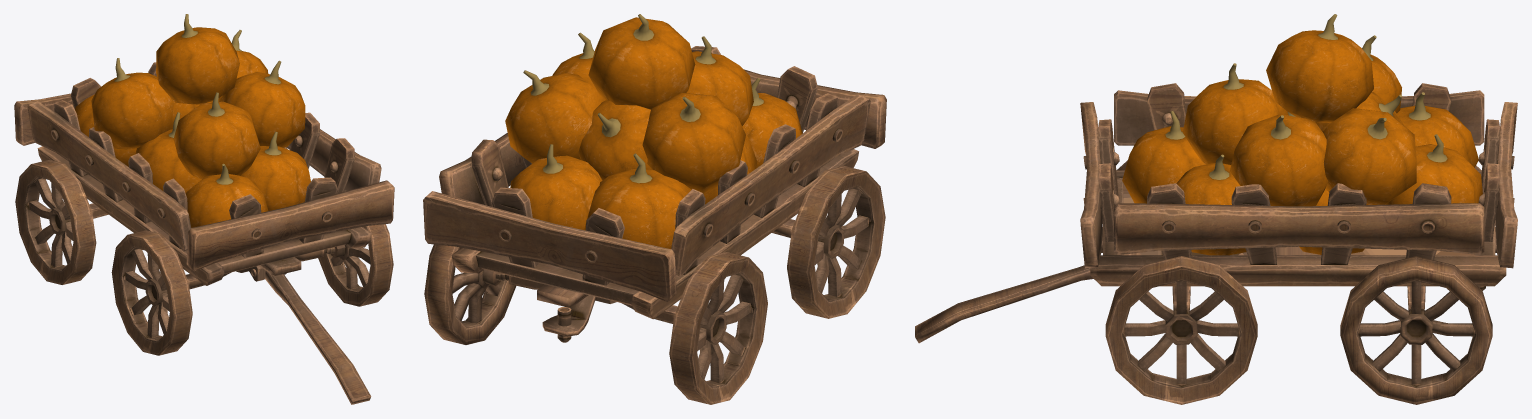
Rendered from PumpkineCartTex_001.fbx.
The picture shows the model from 3 angles, left to right: view 1: azimuth 30°, elevation 25°; view 2: azimuth 150°, elevation 25°; view 3: azimuth 270°, elevation 25°; orthographic projection. The views are drawn at different scales.
Visible parts, largest first — view 1: cart, Pumpkin, wheel; view 2: cart, Pumpkin, wheel; view 3: cart, Pumpkin, wheel.
Boxes of the visible parts, x1,y1,x2,y2 form: cart: [14, 62, 394, 404]; Pumpkin: [75, 14, 310, 227]; wheel: [15, 147, 393, 355]; cart: [423, 46, 886, 342]; Pumpkin: [505, 14, 802, 248]; wheel: [424, 166, 885, 404]; cart: [915, 83, 1517, 343]; Pumpkin: [1122, 14, 1482, 255]; wheel: [1105, 160, 1492, 404].
Size of the model in its own units: 191 by 222 by 374.
